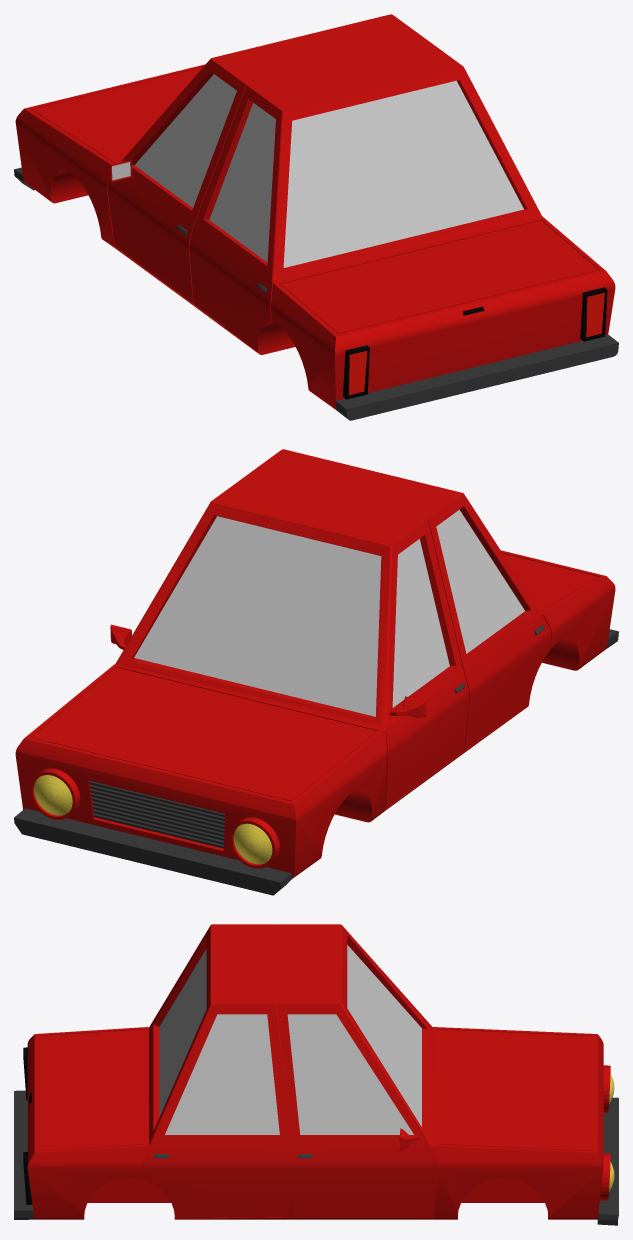
The model's file is Car_Low_Poly.obj.
3 views of the same model, one above another, from view 1: azimuth 30°, elevation 25°; view 2: azimuth 150°, elevation 25°; view 3: azimuth 270°, elevation 25° (orthographic). The views are drawn at different scales.
Parts seen in each view (by area): view 1: BoodyCar; view 2: BoodyCar; view 3: BoodyCar.
Part boxes in pixels (<box>): BoodyCar: <box>14,14,618,420</box>; BoodyCar: <box>14,449,618,895</box>; BoodyCar: <box>14,924,618,1225</box>.
Bounding box in the file's own units: 4.89 × 3.39 × 9.03.
